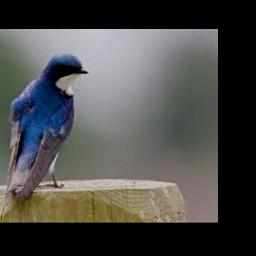Swallow: (7, 54, 87, 201)
